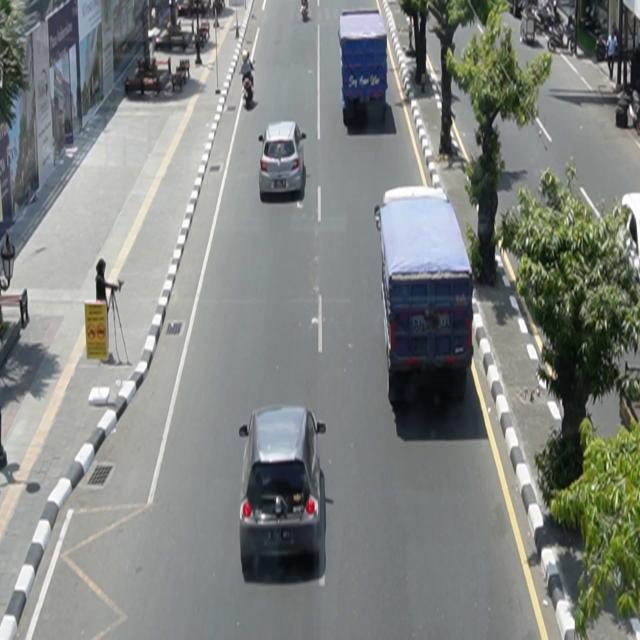car: (239, 405, 328, 584), (259, 121, 308, 203)
truck: (375, 186, 475, 411)
